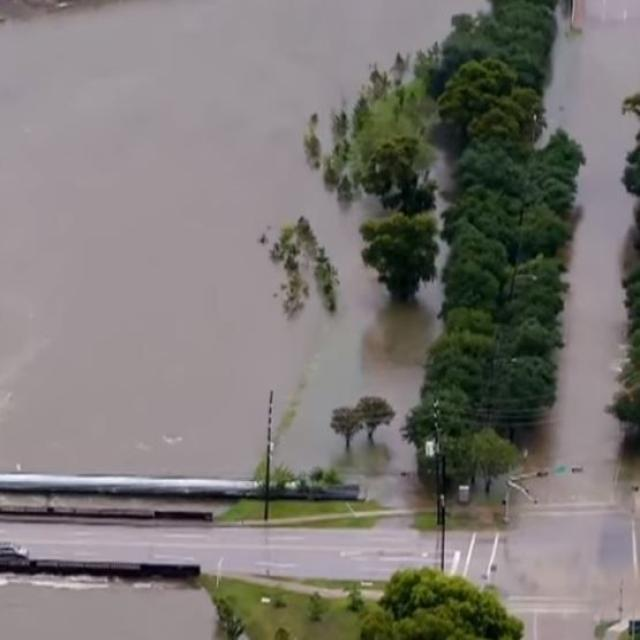flooded_areas: (7, 19, 639, 529)
